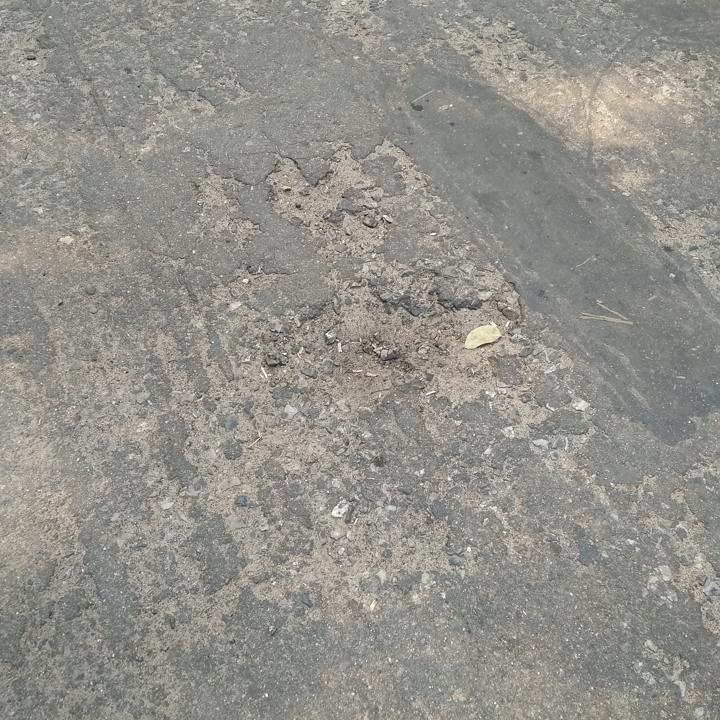pothole: (283, 272, 533, 414), (261, 139, 422, 256)
